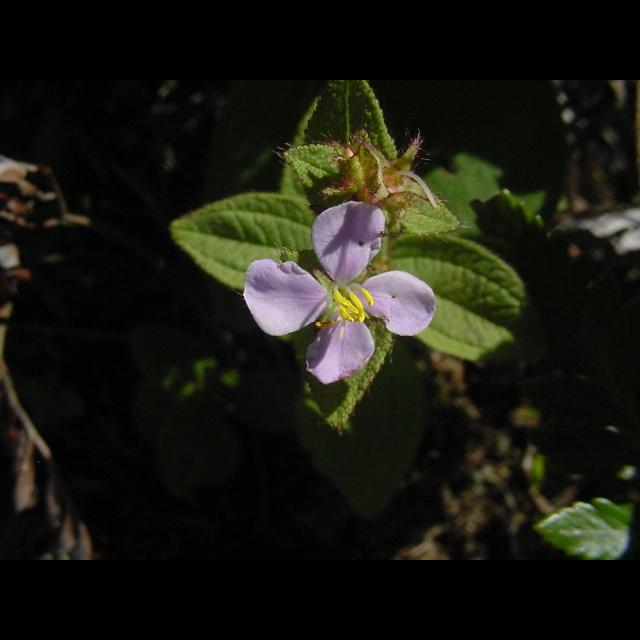Flower: (248, 195, 437, 391)
